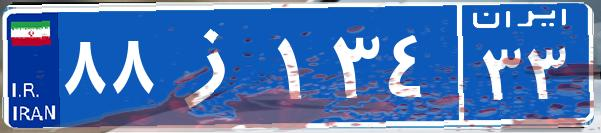1: (273, 28, 330, 110)
3: (330, 28, 385, 110), (475, 38, 525, 113), (525, 38, 570, 115)
4: (385, 28, 445, 110)
8: (57, 26, 110, 107), (110, 28, 158, 105)
ز: (158, 15, 273, 115)
